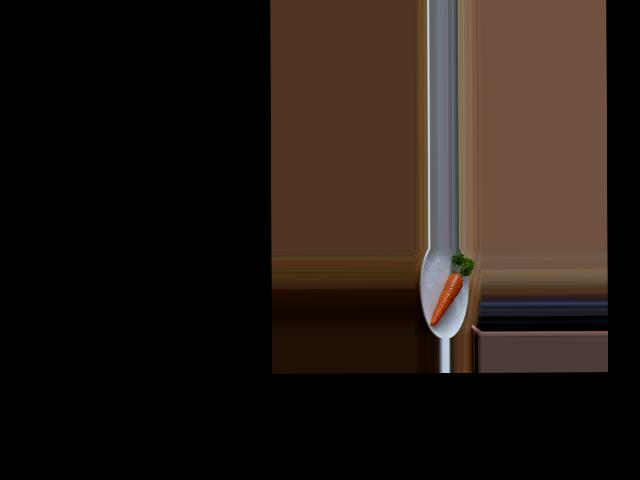carrot: (429, 267, 465, 328)
